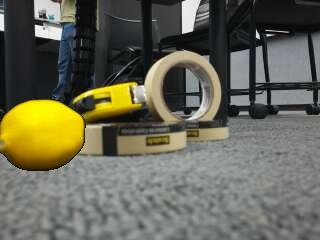lemon: (2, 103, 85, 172)
